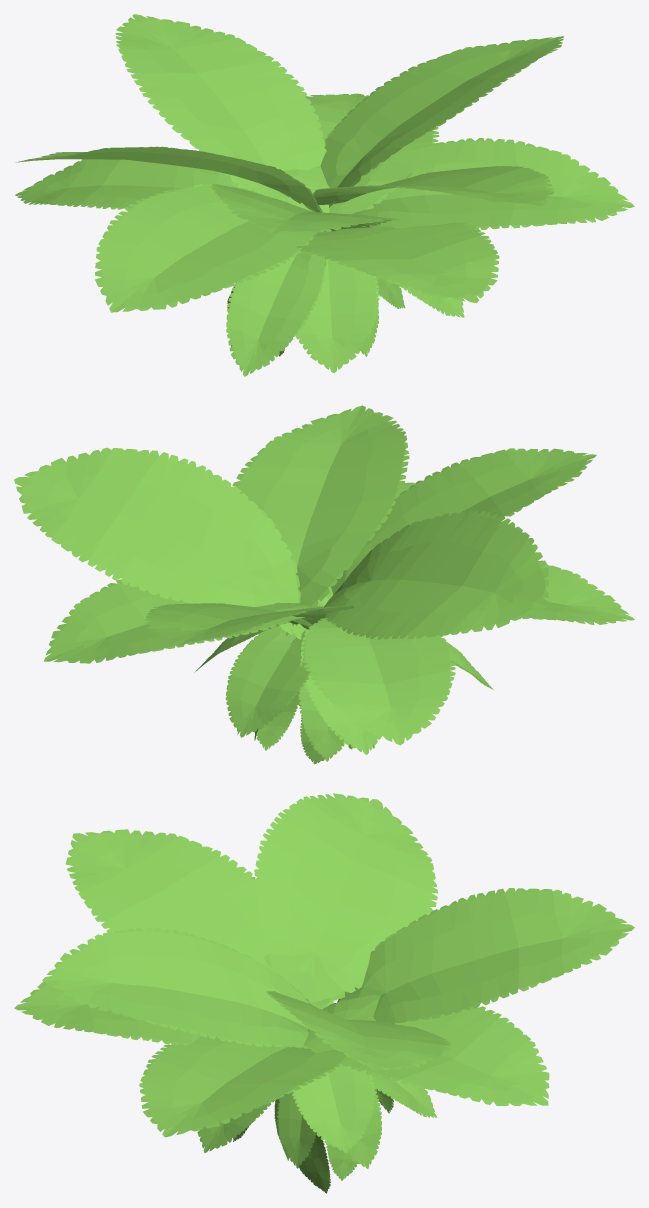
Rendered from leaves.glb.
3 views of the same model, one above another, from view 1: azimuth 30°, elevation 25°; view 2: azimuth 150°, elevation 25°; view 3: azimuth 270°, elevation 25° (orthographic). The views are drawn at different scales.
Visible parts, largest first — view 1: TropicalTreeLeaves; view 2: TropicalTreeLeaves; view 3: TropicalTreeLeaves.
Part boxes in pixels (box(x1,y1,x2,y2)): TropicalTreeLeaves: box(15, 14, 634, 376); TropicalTreeLeaves: box(14, 405, 634, 764); TropicalTreeLeaves: box(14, 793, 634, 1193).
Size of the model in its own units: 5.61 by 2.68 by 5.54.
